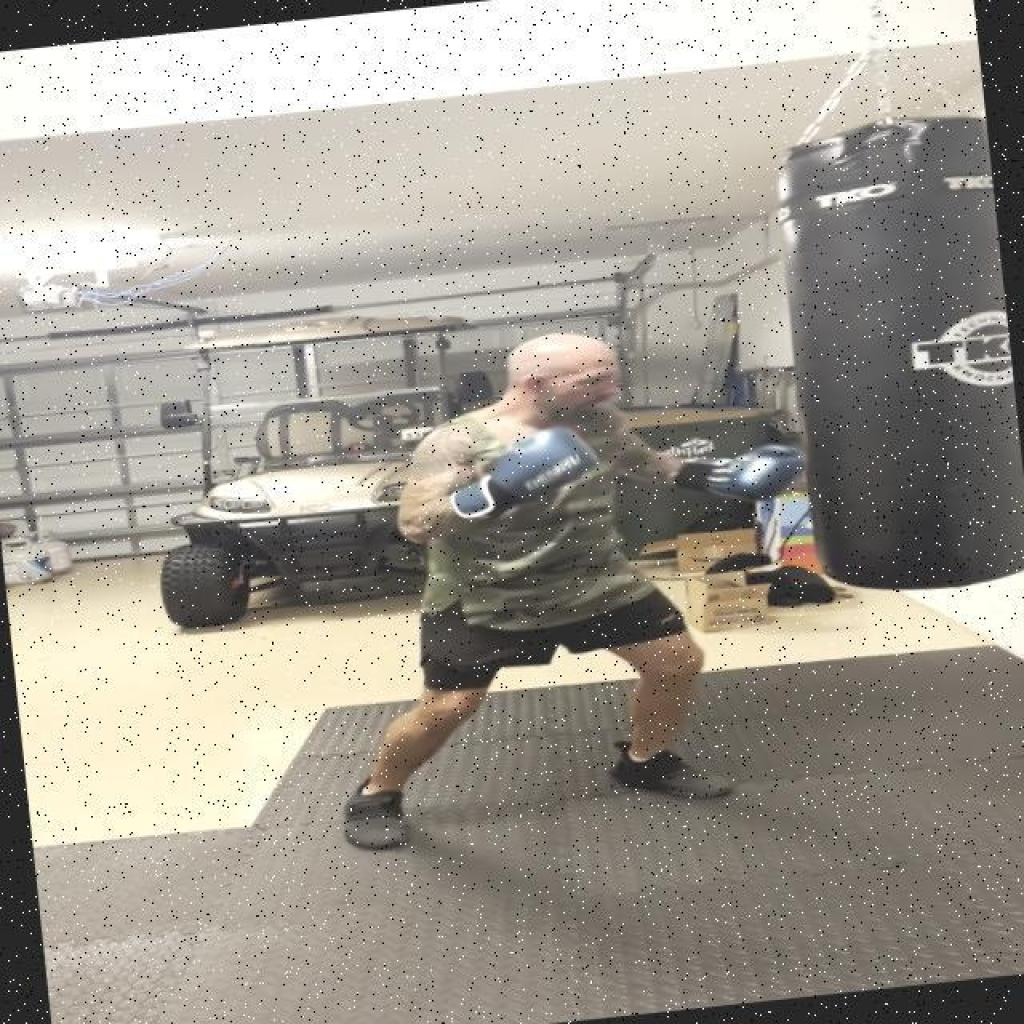bag: (755, 94, 1024, 610)
hook: (357, 253, 872, 581)
